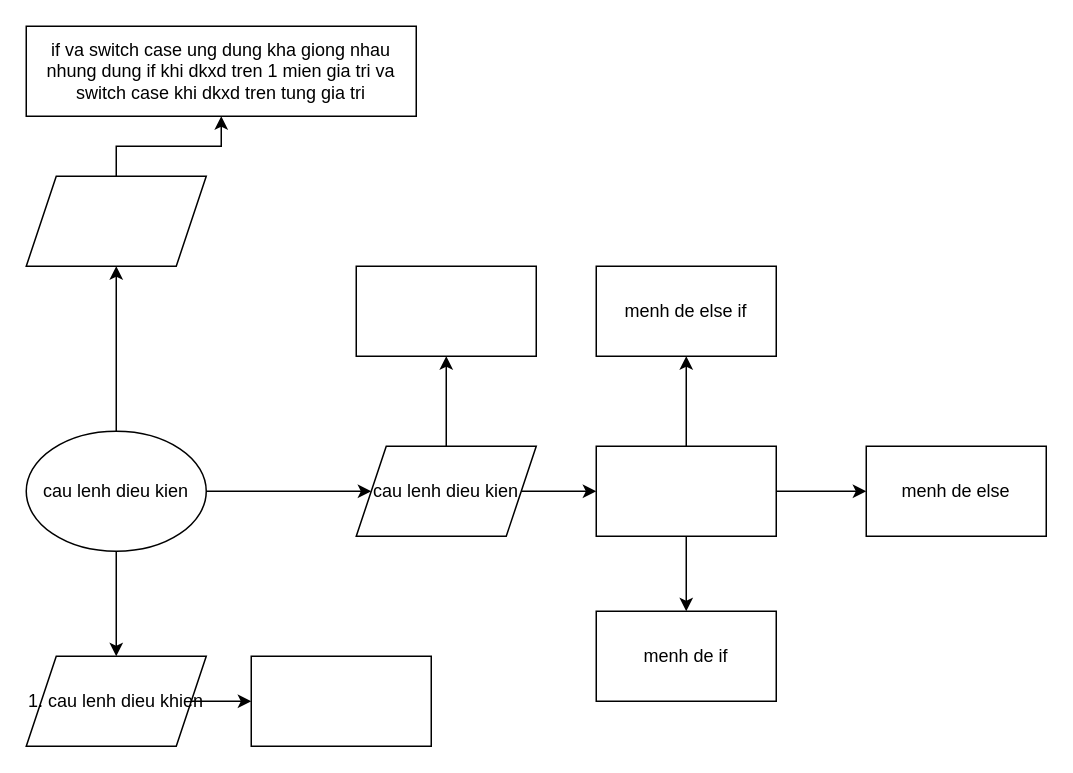
Some shapes in this 1073 by 773 pixel diagram are drawn without their labels. The centre of each missing label's shape, as x and y in pixels:
-condition statement -iterative statement -jumpstatement: the point at 340,700
cau lenh if: the point at 685,490
cau lenh switch case: the point at 445,310
so sanh va ung dung: the point at 115,220
